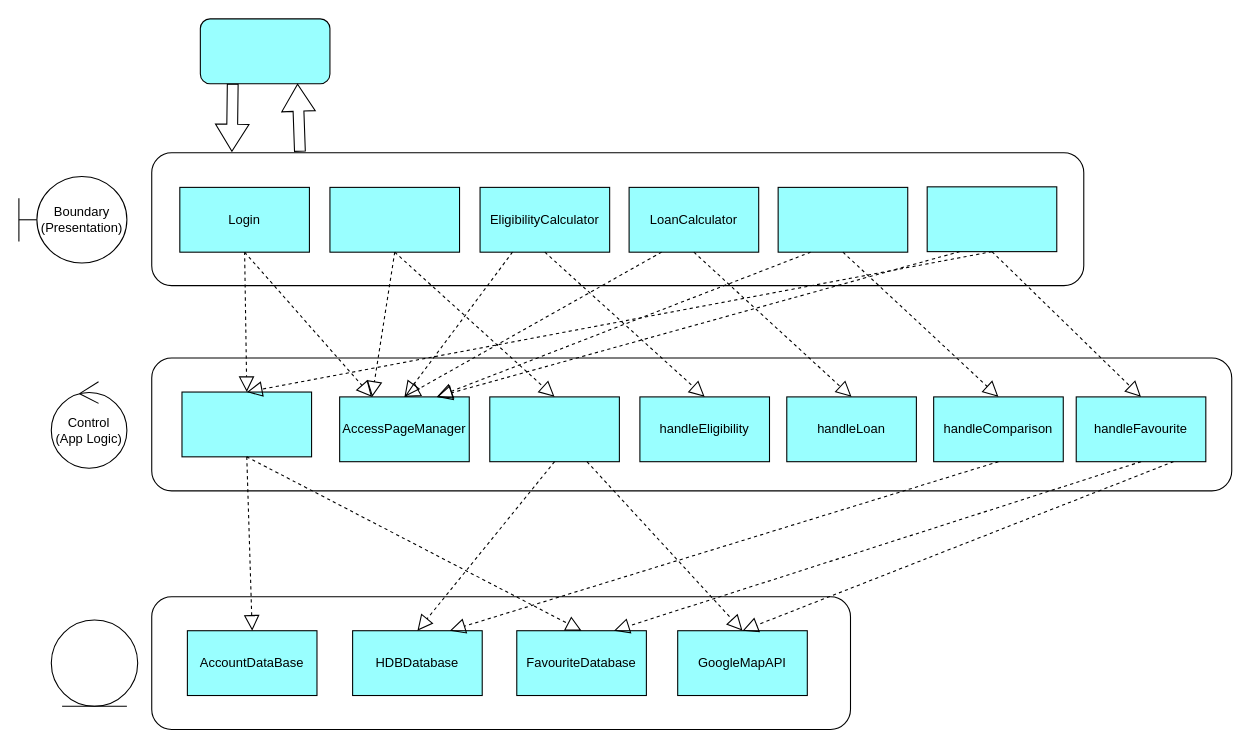
The diagram is 1251 pixels wide and 748 high, and some of its shapes have lost their labels. Each missing label, with the centre of its shape:
AccountManager: the point at 246,424
Comparison: the point at 842,219
Entity (Persistent Data): the point at 94,662
Favourite: the point at 991,219
handleFilterFlat: the point at 554,429
Search: the point at 394,219
User: the point at 264,51
